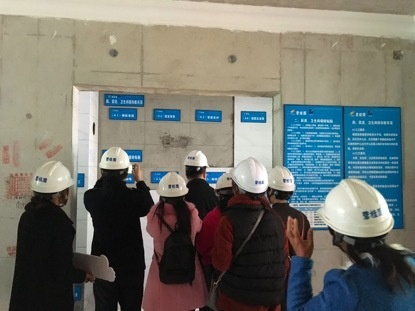white: (320, 178, 392, 258), (30, 160, 70, 207), (231, 154, 268, 198), (266, 166, 295, 205), (99, 145, 131, 180), (157, 171, 188, 205), (182, 150, 209, 181)
